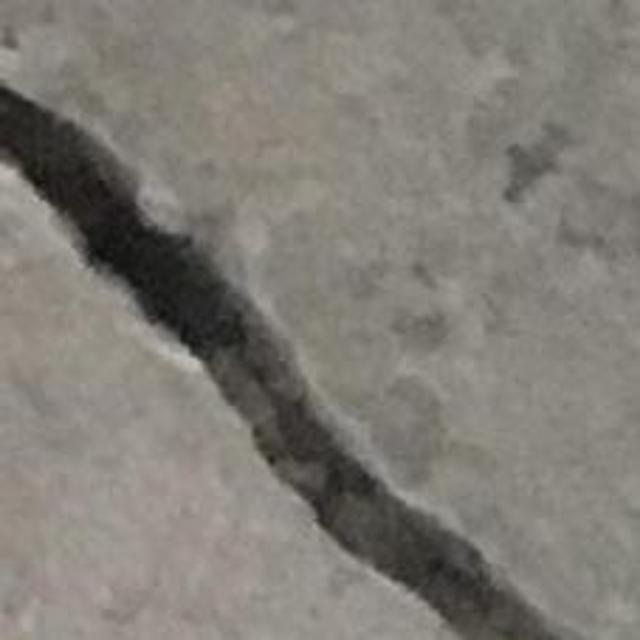crack: (0, 85, 569, 639)
